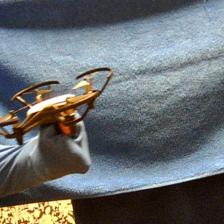drone: (0, 65, 111, 139)
